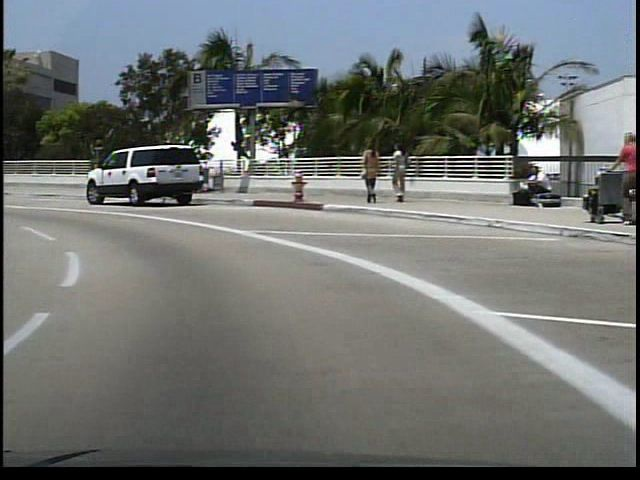person: (605, 126, 636, 231), (358, 137, 380, 209), (515, 164, 549, 208), (384, 143, 408, 205)
